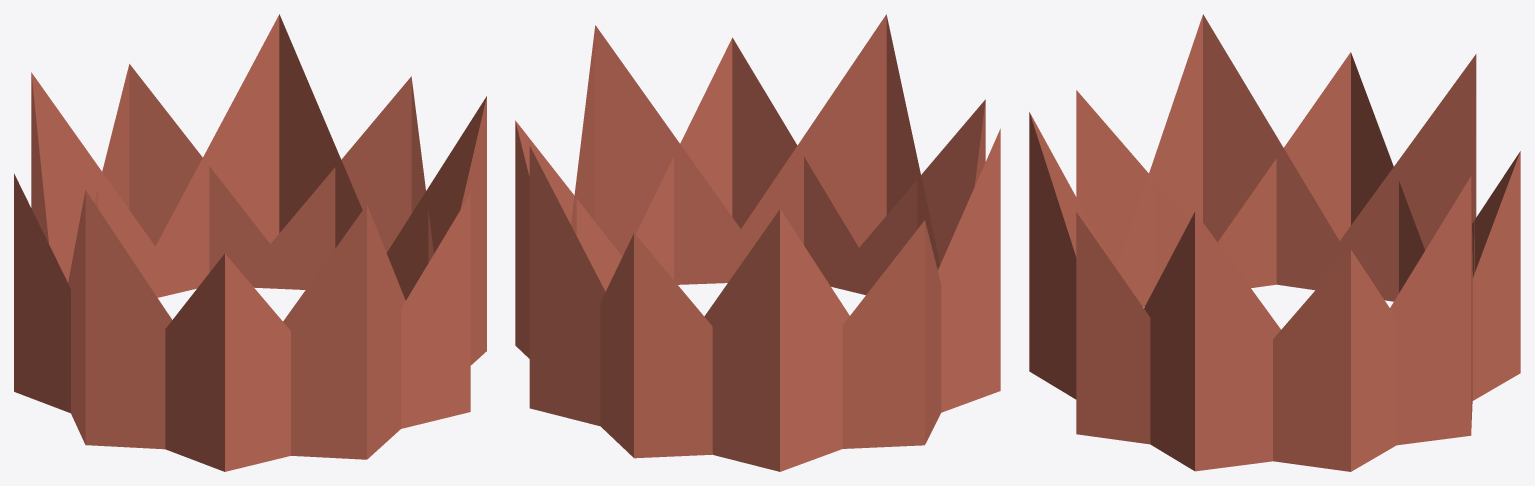
The model's file is fire-ring.glb.
The picture shows the model from 3 angles, left to right: view 1: azimuth 30°, elevation 25°; view 2: azimuth 150°, elevation 25°; view 3: azimuth 270°, elevation 25°; orthographic projection. The views are drawn at different scales.
Parts seen in each view (by area): view 1: fire-ring; view 2: fire-ring; view 3: fire-ring.
Part boxes in pixels (bbox=[...]): fire-ring: bbox=[14, 14, 486, 471]; fire-ring: bbox=[515, 14, 1000, 471]; fire-ring: bbox=[1029, 14, 1520, 471].
Bounding box in the file's own units: 1.91 × 1.17 × 2.
